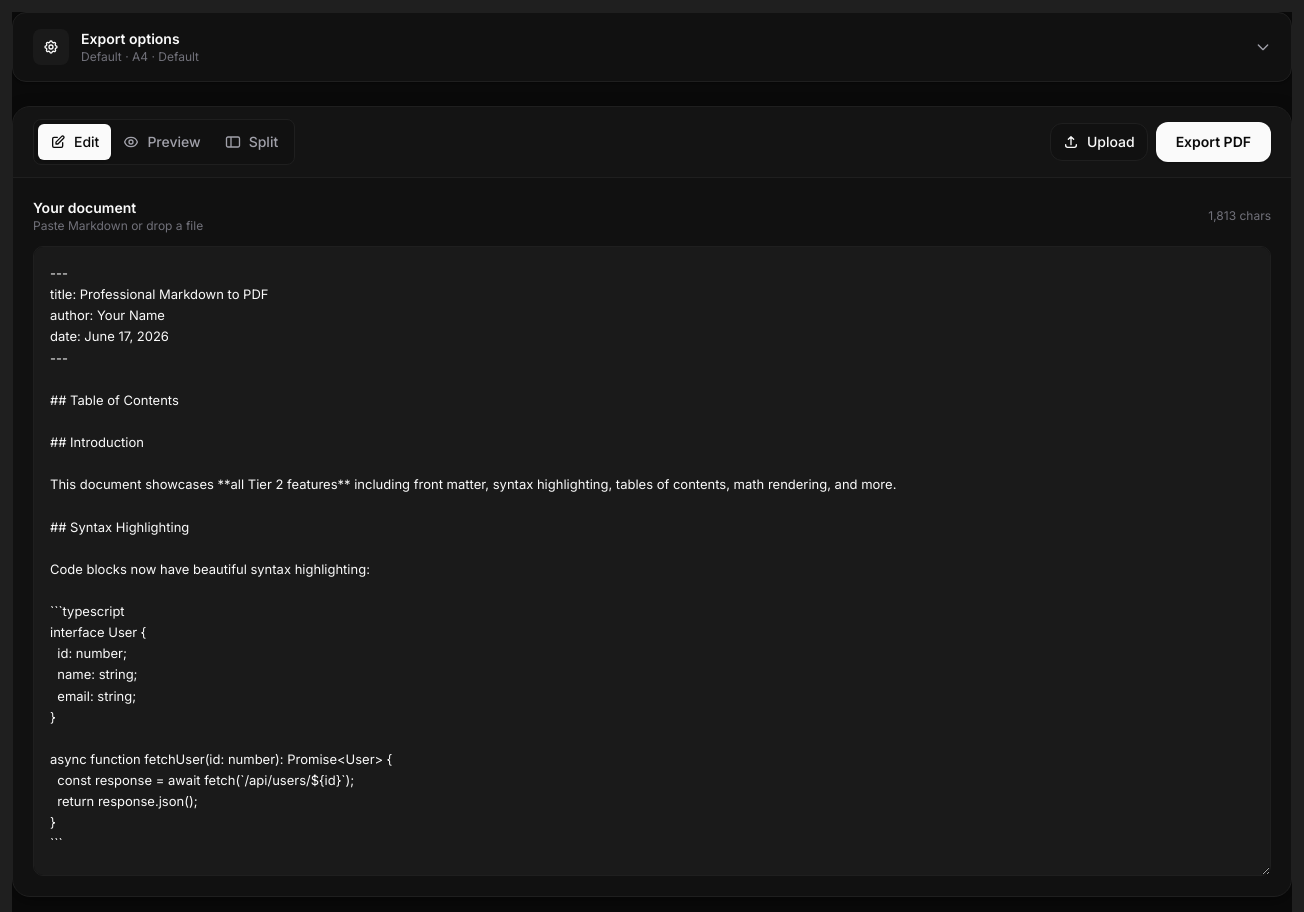
Test: JobConsole › should disable export button when markdown is empty
Step 1. Clear the text box named "markdown source" → (652, 561), box [33, 246, 1271, 876]
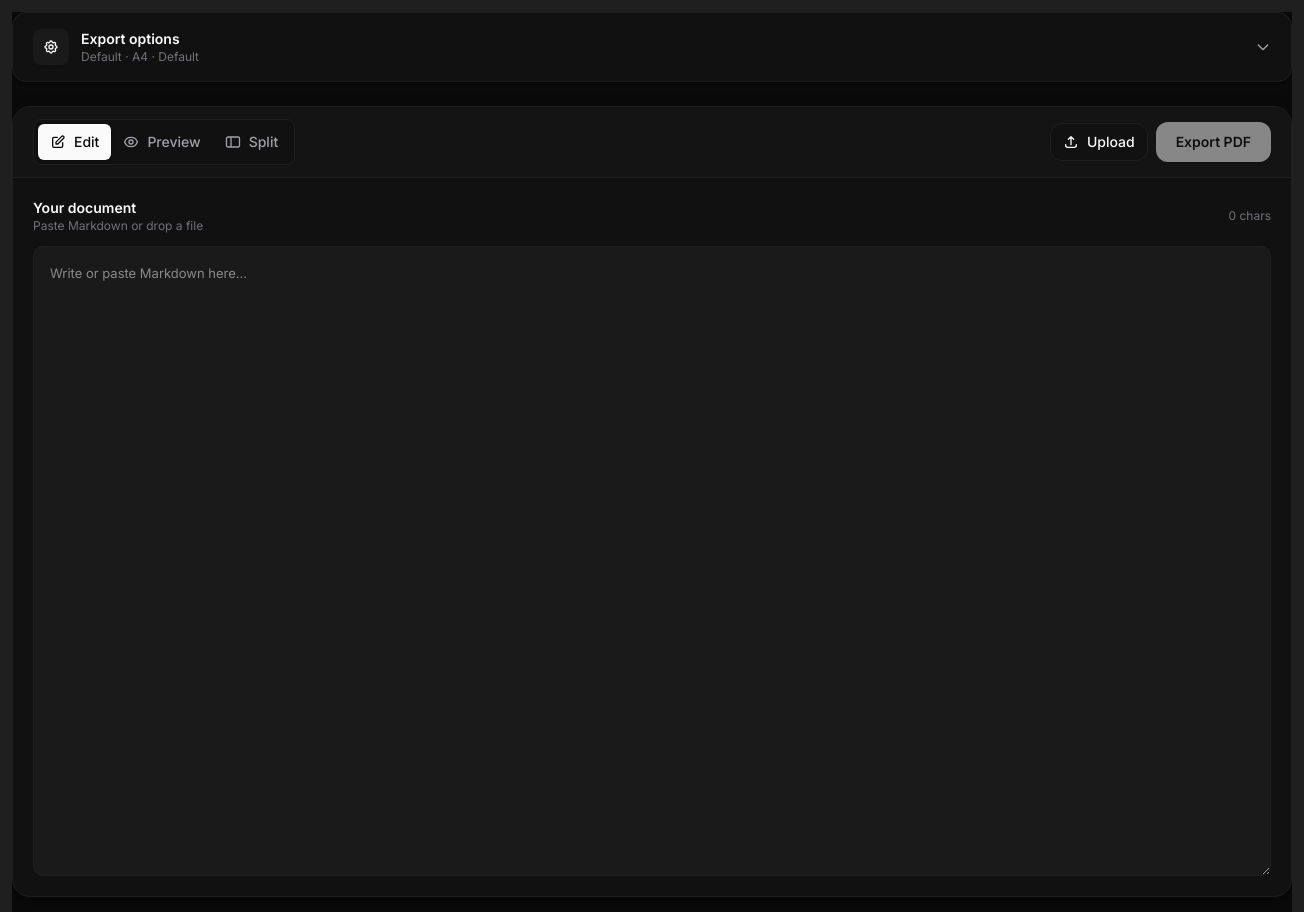
Now the button "Export PDF" is disabled, box [1156, 122, 1271, 162]
